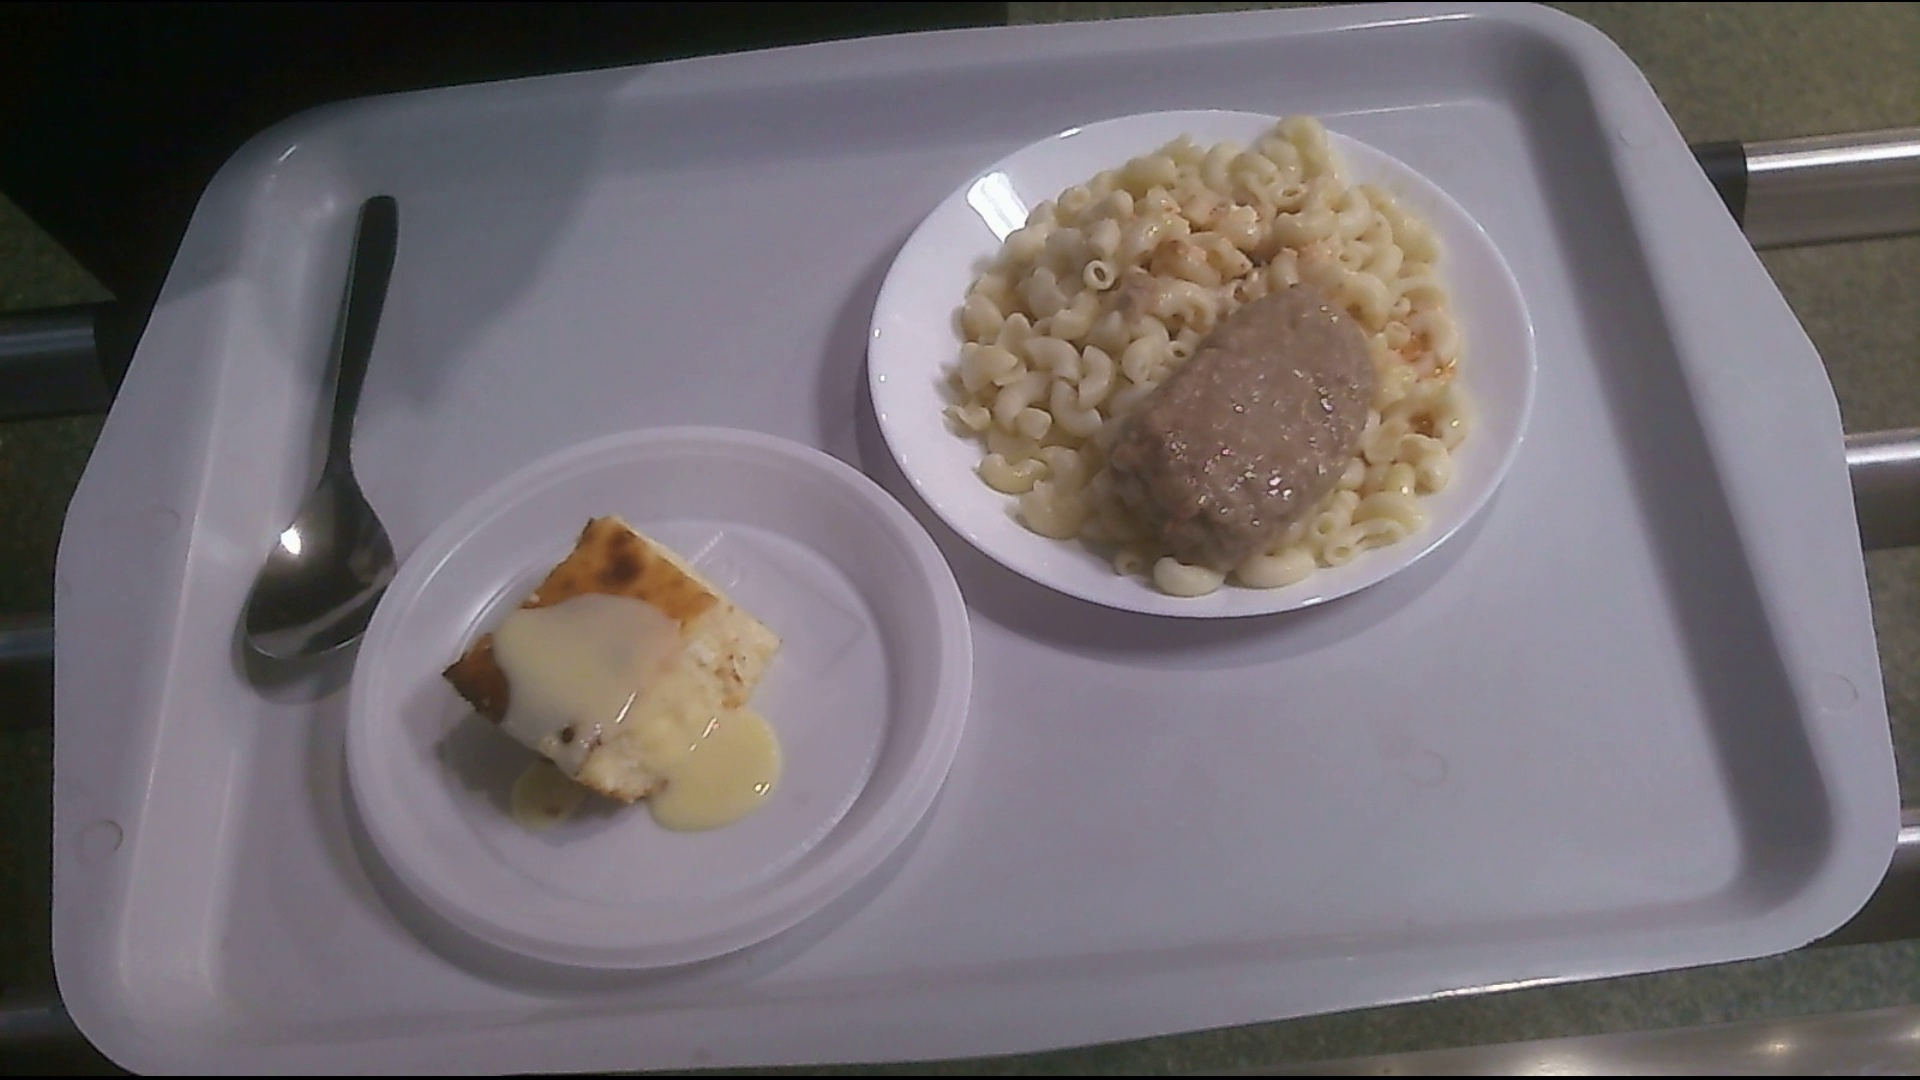cutlery: (244, 175, 410, 699)
plate: (843, 105, 1542, 626), (344, 426, 977, 980)
